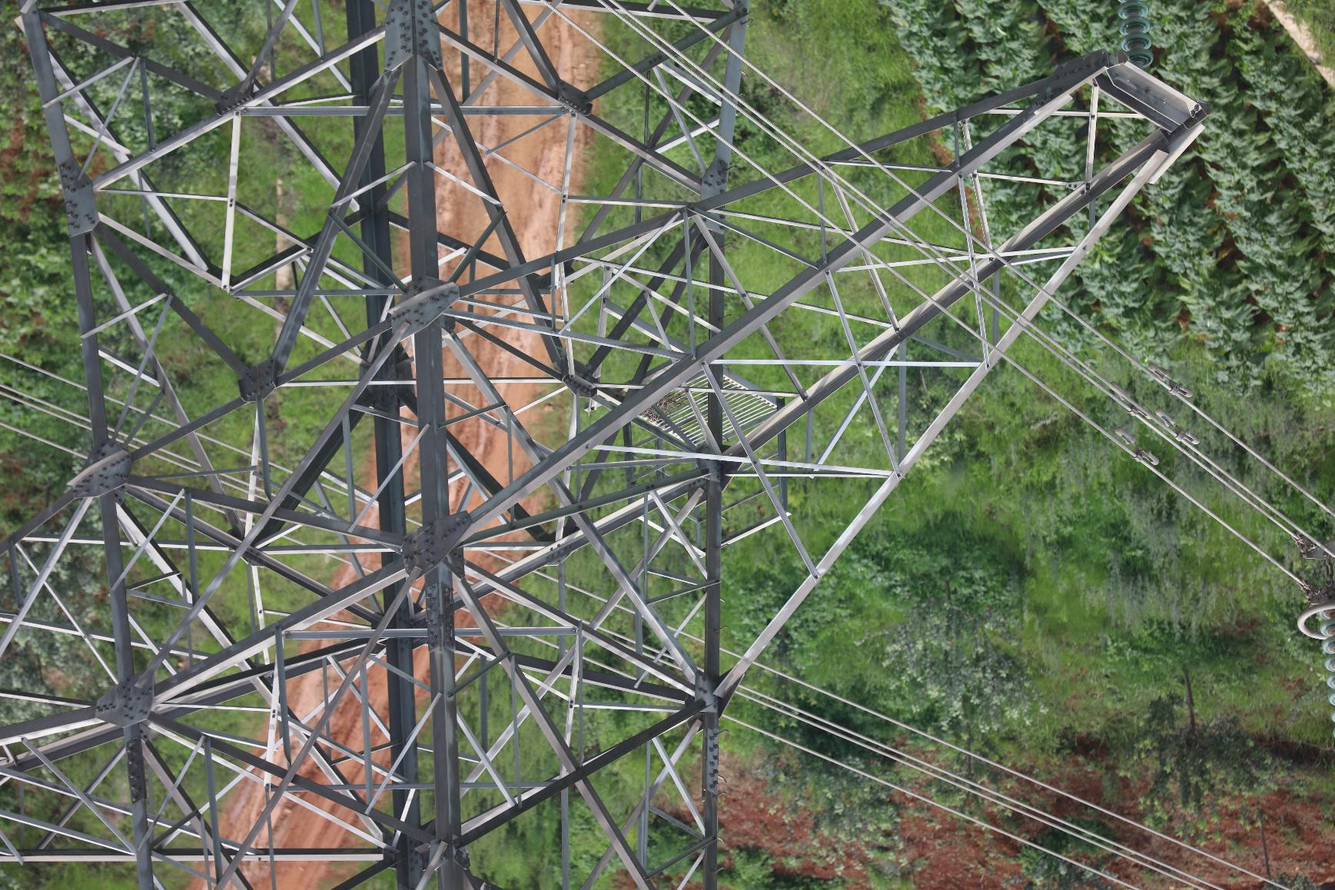damper: (1112, 425, 1162, 469), (1153, 405, 1202, 448), (1107, 379, 1153, 421), (1145, 361, 1194, 400)
nest: (638, 390, 685, 425)
